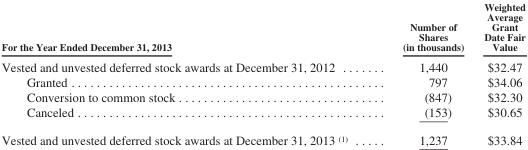table: (0, 0, 524, 146)
table column: (0, 0, 374, 146), (374, 0, 473, 146), (473, 0, 524, 146)
table column header: (0, 0, 524, 56)
table row: (0, 0, 524, 56), (0, 104, 524, 125), (0, 125, 524, 146), (0, 56, 524, 73), (0, 73, 524, 89), (0, 89, 524, 104)
